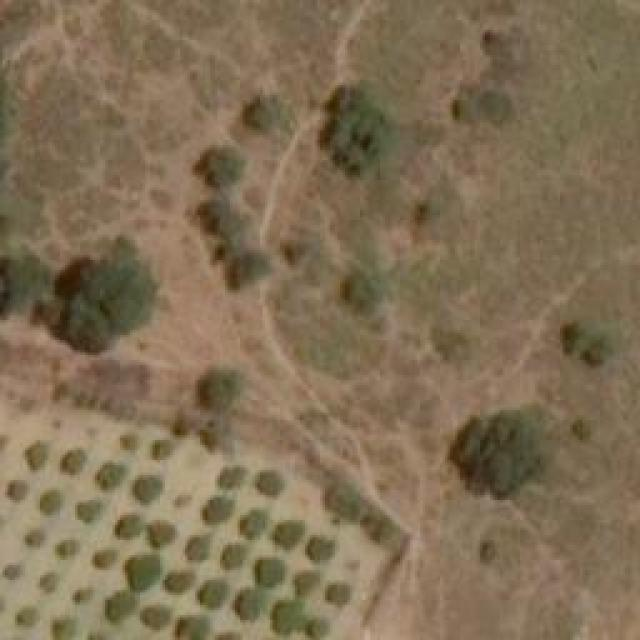Tree: (53, 243, 153, 358), (318, 88, 398, 173), (468, 418, 543, 488), (198, 192, 254, 248), (0, 250, 45, 313), (220, 243, 271, 292), (340, 267, 389, 312), (560, 323, 605, 366), (198, 145, 238, 190), (480, 88, 518, 130), (200, 367, 240, 405), (245, 95, 280, 130), (128, 555, 158, 590), (255, 558, 288, 588), (275, 600, 303, 633), (328, 488, 358, 518), (475, 532, 503, 564), (235, 590, 263, 620), (95, 462, 125, 490), (273, 520, 306, 545), (175, 617, 210, 640), (132, 475, 160, 503), (198, 580, 228, 605), (242, 510, 270, 535), (205, 500, 235, 523), (295, 570, 323, 593), (107, 595, 135, 618), (165, 570, 193, 593), (368, 515, 393, 540), (223, 543, 248, 568), (568, 415, 591, 441), (310, 535, 335, 558), (260, 470, 283, 495), (190, 535, 213, 560), (75, 500, 100, 523), (142, 608, 170, 628), (220, 465, 243, 488), (118, 515, 141, 538), (147, 525, 175, 543), (328, 585, 353, 605), (308, 618, 331, 638), (53, 618, 76, 638), (40, 493, 60, 516), (63, 450, 83, 473), (15, 607, 40, 625), (55, 540, 78, 558), (150, 440, 173, 458), (5, 480, 25, 500), (200, 428, 220, 448), (38, 572, 58, 590), (95, 550, 115, 568), (170, 417, 190, 435), (28, 445, 43, 468), (73, 588, 93, 603), (25, 530, 43, 545), (120, 432, 135, 450)
